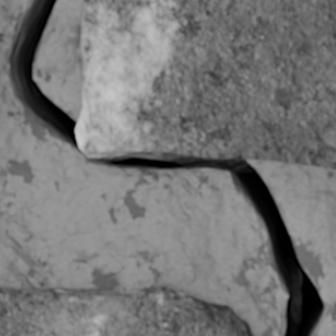brick: (76, 0, 335, 167), (0, 287, 250, 335)
crack: (2, 0, 333, 335)
